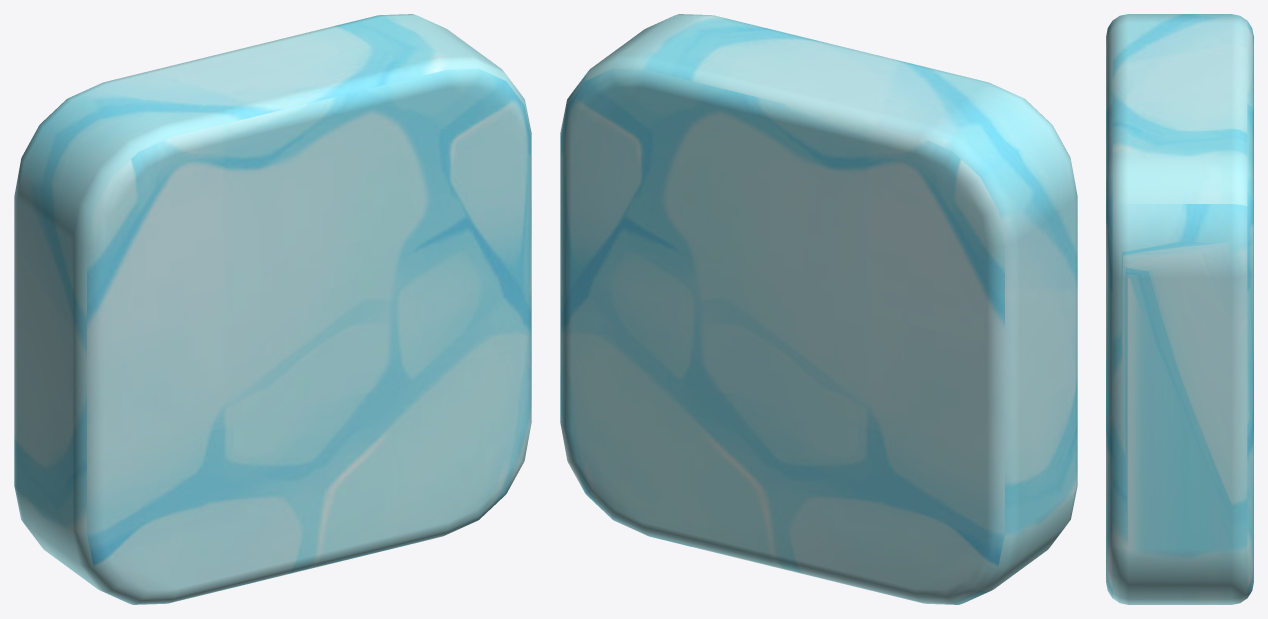
The model's file is Ice_OneShape.fbx.
3 renders of one model, left to right at view 1: azimuth 30°, elevation 25°; view 2: azimuth 150°, elevation 25°; view 3: azimuth 270°, elevation 25°, orthographic. The views are drawn at different scales.
Parts seen in each view (by area): view 1: Ice_OneShape; view 2: Ice_OneShape; view 3: Ice_OneShape.
Part boxes in pixels (left/top/right/bottom): Ice_OneShape: left=14, top=14, right=531, bottom=604; Ice_OneShape: left=560, top=14, right=1077, bottom=604; Ice_OneShape: left=1106, top=14, right=1253, bottom=604.
Size of the model in its own units: 1 by 1 by 0.3.
1 material, 1 textured.
